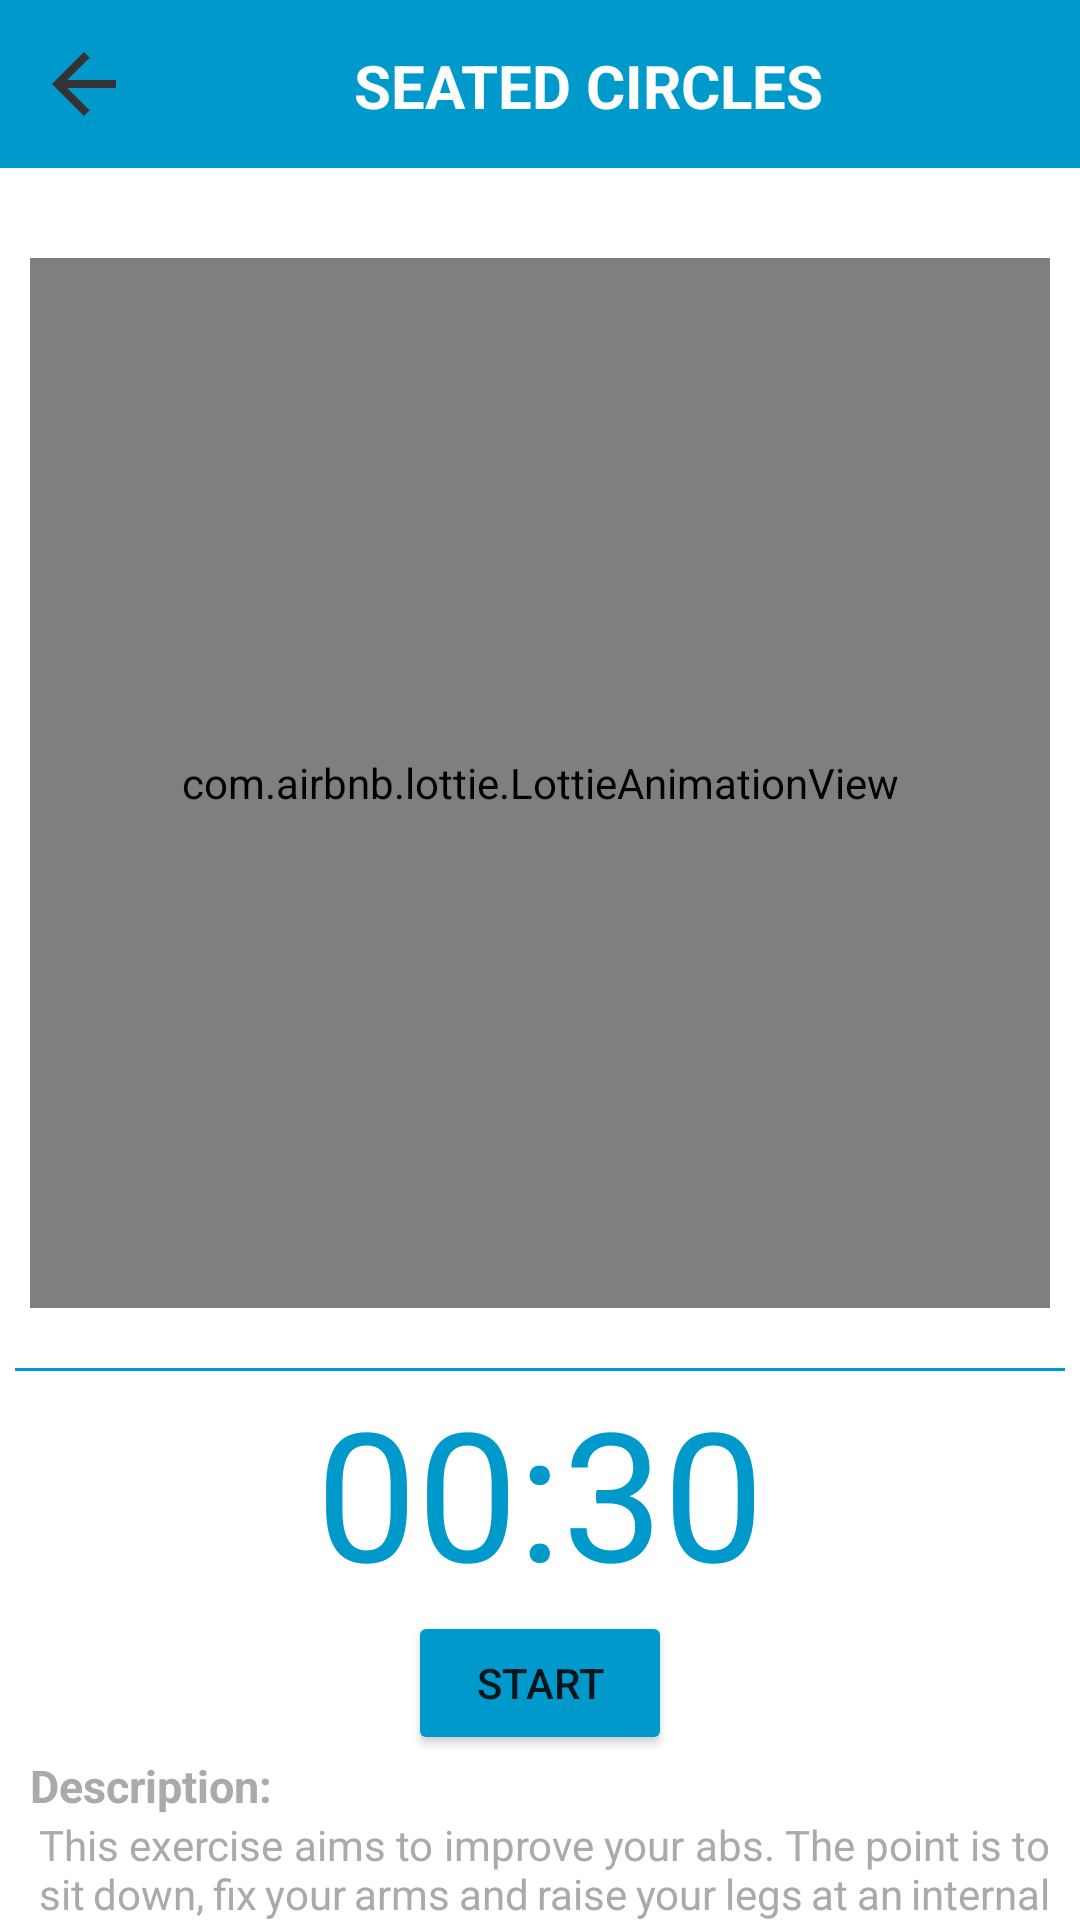

Locate icon controls on the screen. Image size 1080 × 1920, boxes as [x1=x1, y1=y1, x2=x2, y2=y2].
back arrow: [x1=52, y1=52, x2=116, y2=116]
